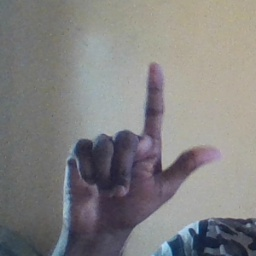L: (62, 63, 222, 225)
